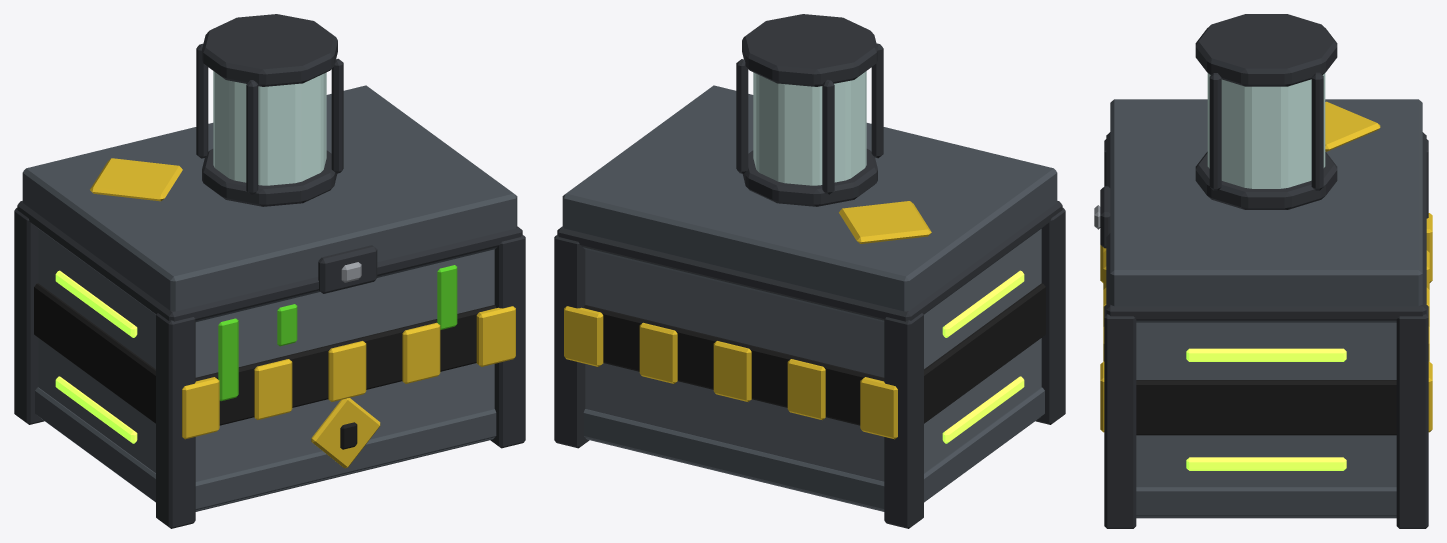
The model's file is myw_crate_zone6.glb.
The picture shows the model from 3 angles, left to right: view 1: azimuth 30°, elevation 25°; view 2: azimuth 150°, elevation 25°; view 3: azimuth 270°, elevation 25°; orthographic projection. The views are drawn at different scales.
Visible parts, largest first — view 1: Body, Lid; view 2: Body, Lid; view 3: Lid, Body.
Boxes of the visible parts, box(x1,y1,x2,y2) form: Body: box(14, 208, 525, 528); Lid: box(17, 14, 522, 321); Body: box(554, 208, 1065, 528); Lid: box(557, 14, 1062, 321); Lid: box(1094, 14, 1426, 322); Body: box(1100, 139, 1432, 528).
Size of the model in its own units: 2.12 by 2.2 by 1.69.
